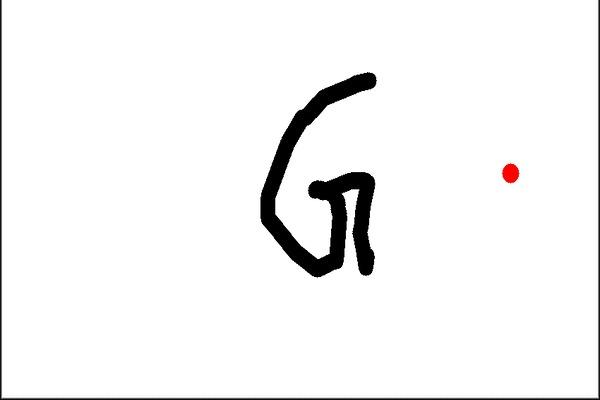G: (250, 67, 391, 281)
